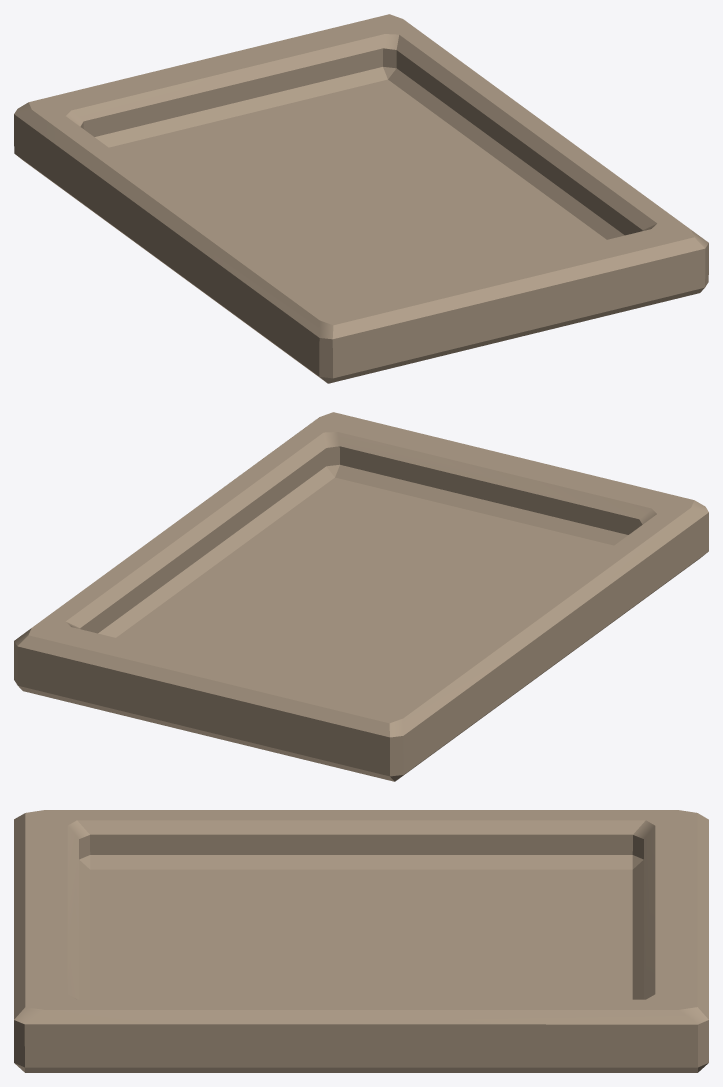
The model's file is sm_photo3.fbx.
The picture shows the model from 3 angles, top to bottom: view 1: azimuth 30°, elevation 25°; view 2: azimuth 150°, elevation 25°; view 3: azimuth 270°, elevation 25°; orthographic projection. The views are drawn at different scales.
Visible parts, largest first — view 1: photo3; view 2: photo3; view 3: photo3.
Boxes of the visible parts, <box> form: photo3: <box>14,14,708,383</box>; photo3: <box>14,412,708,781</box>; photo3: <box>14,810,708,1072</box>.
Bounding box in the file's own units: 91.75 × 12.83 × 129.
